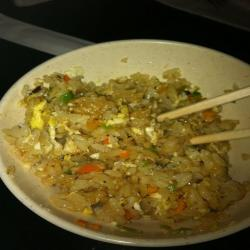rice: (32, 82, 210, 213)
